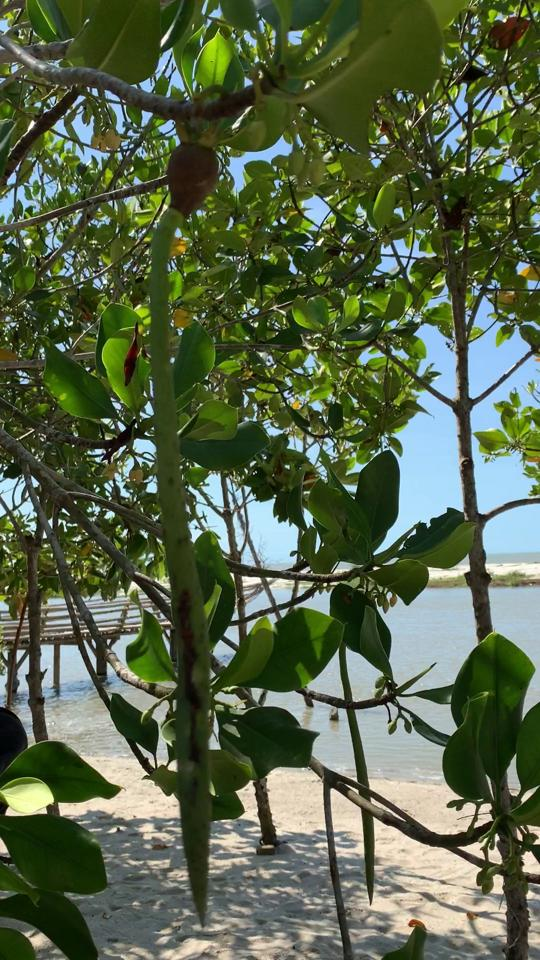setengah matang: (135, 137, 239, 926)
